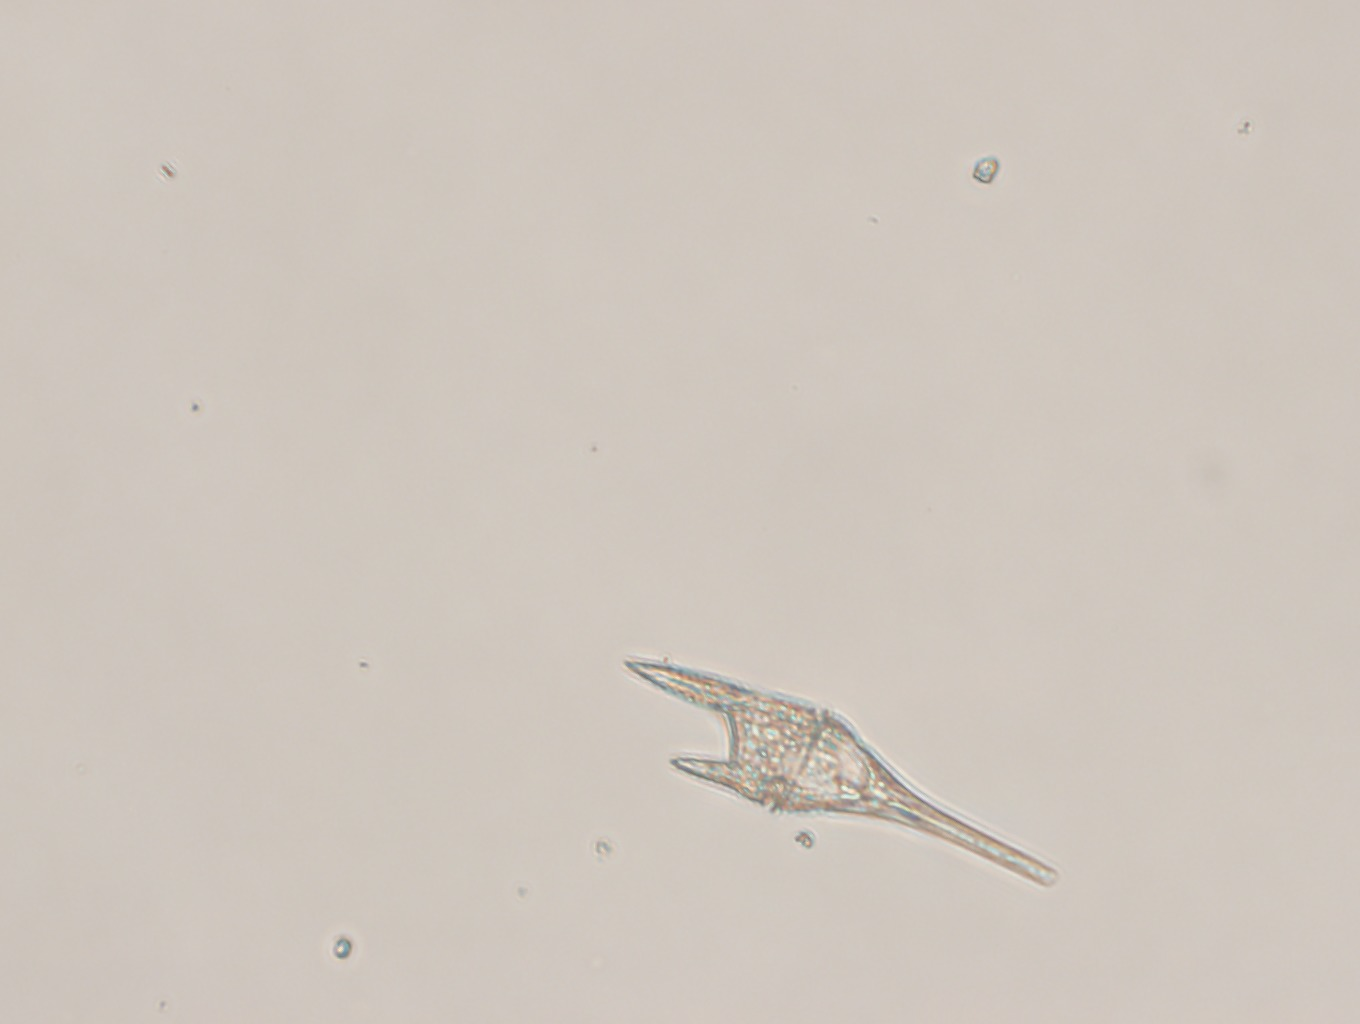ceratium furca: (614, 652, 1058, 891)
